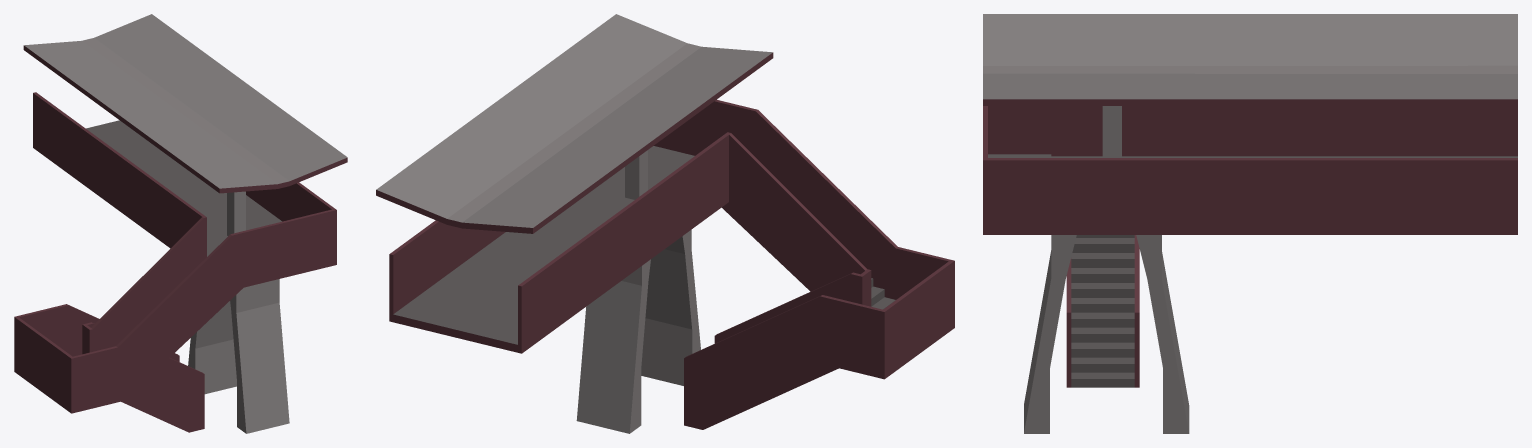
The model's file is trainstation-oberpass-end.fbx.
The picture shows the model from 3 angles, left to right: view 1: azimuth 30°, elevation 25°; view 2: azimuth 150°, elevation 25°; view 3: azimuth 270°, elevation 25°; orthographic projection. The views are drawn at different scales.
Parts seen in each view (by area): view 1: trainstation-oberpass-end; view 2: trainstation-oberpass-end; view 3: trainstation-oberpass-end.
Part boxes in pixels (x1,y1,x2,y2): trainstation-oberpass-end: [14, 14, 347, 433]; trainstation-oberpass-end: [376, 14, 954, 433]; trainstation-oberpass-end: [983, 14, 1517, 433].
Bounding box in the file's own units: 8.95 × 8.25 × 10.99.
